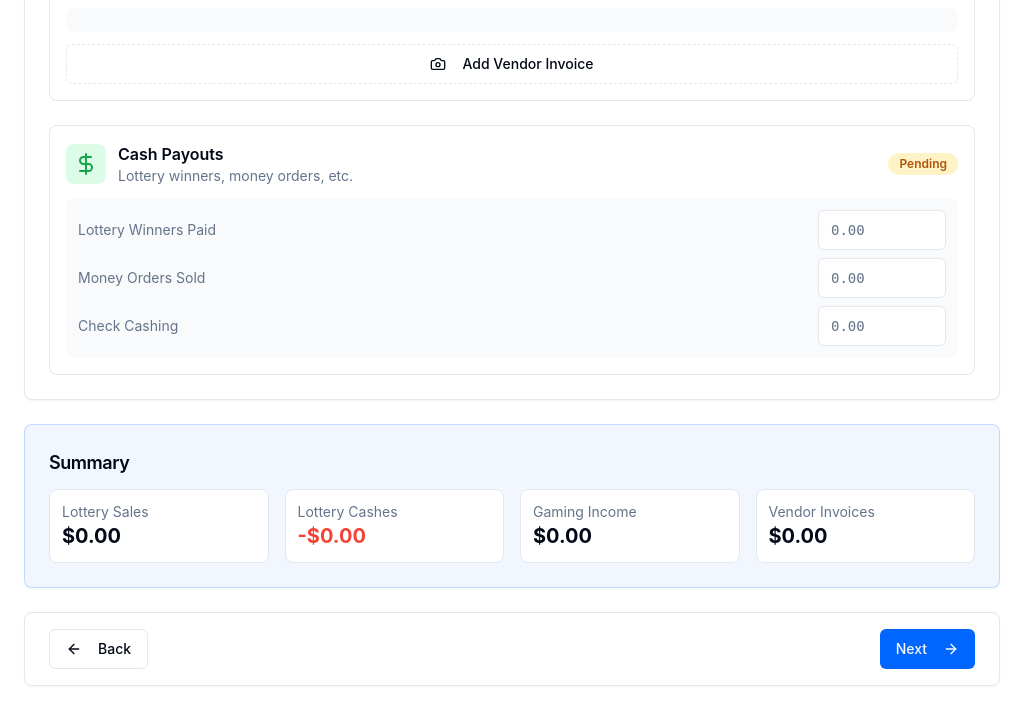
Test case: ShiftEndWizard Page › SEW-011: [P1] should show Complete Shift Close button on step 2
(page scrolled)
Click the button with test id "report-scanning-next-btn" at (927, 649), box [880, 629, 975, 669]
(page scrolled)
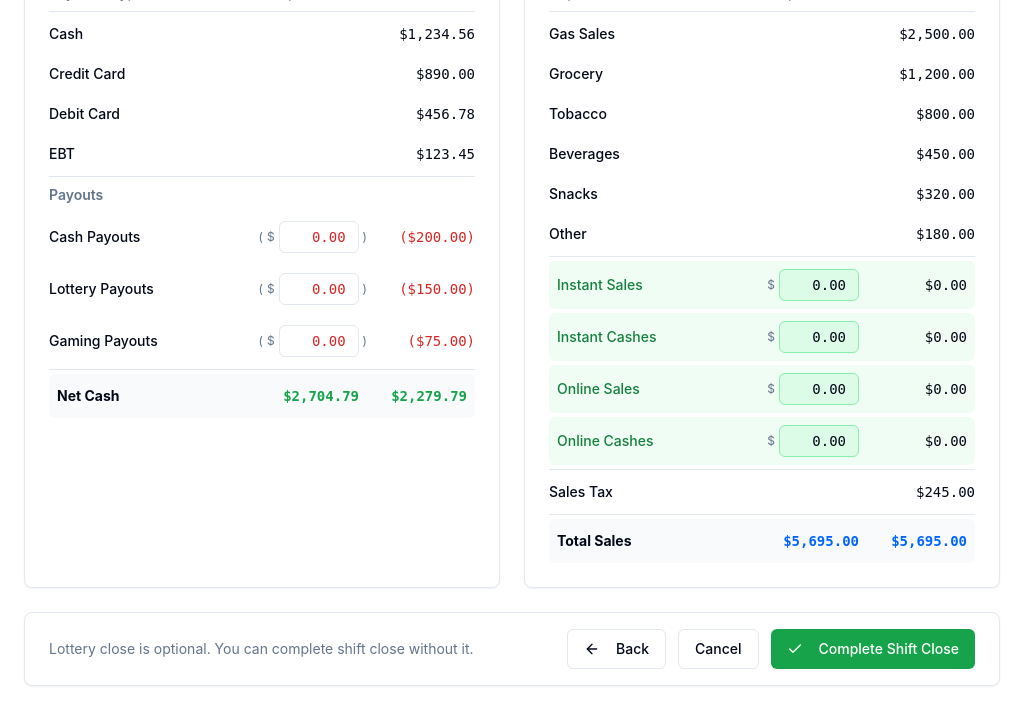
Expected: the button with test id "complete-shift-close-btn" is enabled, [770, 629, 975, 669]
